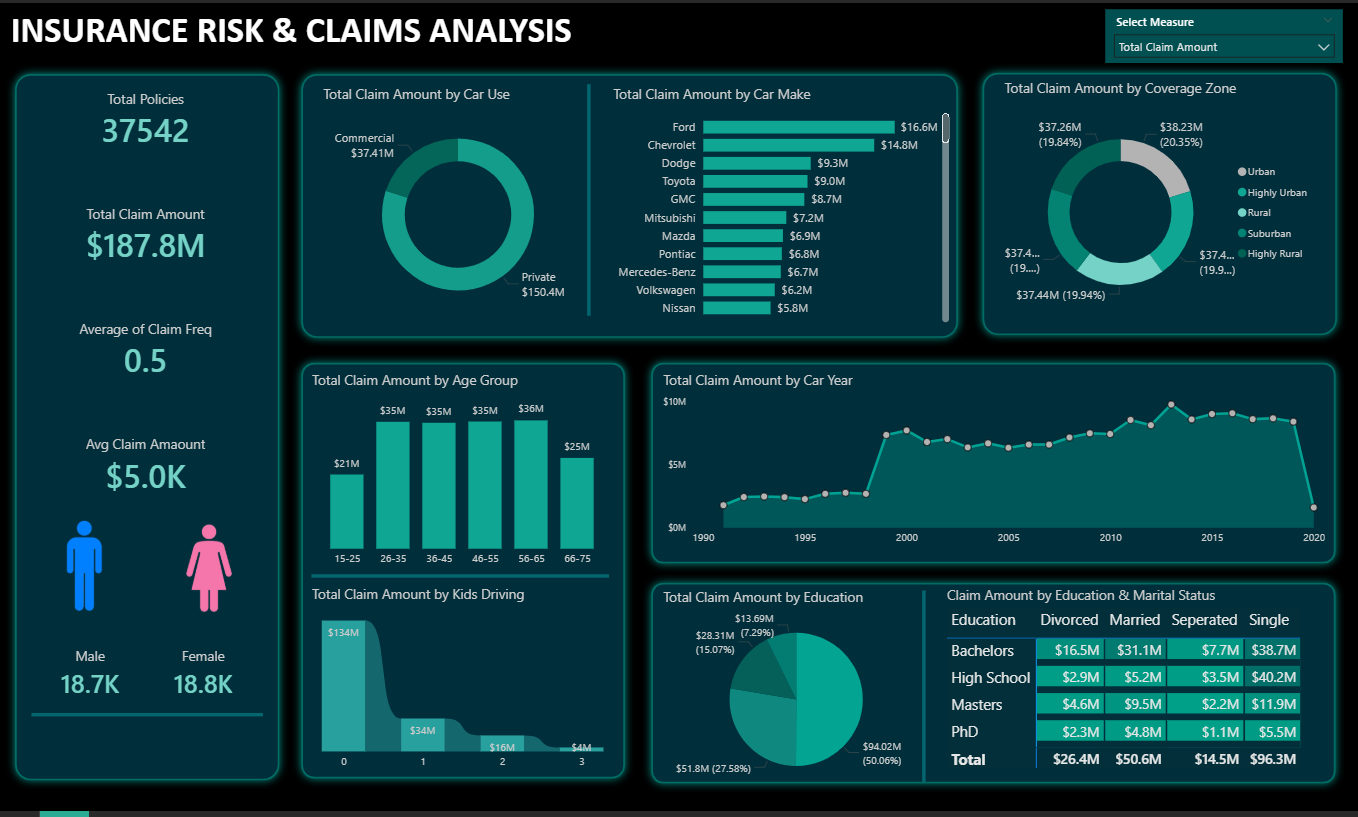

This screenshot's page, from the dashboard's own definition file:
{"tool":"powerbi","page":{"name":"Page 1","canvas":[1600,950],"ordinal":0},"visuals":[{"type":"textbox","box":[9,0,679.9,68.5],"z":0},{"type":"shape","box":[8.9,72.9,330.7,850],"z":1000},{"type":"cardVisual","fields":{"Data":["insurance_data_car.Total Policies","insurance_data_car.Total Claim Amount","Avg(insurance_data_car.Claim Freq)","insurance_data_car.Avg Claim Amaount"]},"box":[37.2,74.5,272,531],"z":2000},{"type":"cardVisual","fields":{"Data":["insurance_data_car.Male Count","insurance_data_car.Female Count"]},"box":[45.1,732.2,257.9,108.2],"z":3000},{"type":"image","box":[43.3,604.2,115.4,115.4],"z":4000},{"type":"image","box":[187.6,607.8,117.2,111.8],"z":5000},{"type":"slicer","fields":{"Values":["Select Measure.Select Measure"]},"box":[1300.3,7.2,279.5,63.1],"z":6000},{"type":"shape","box":[344.5,73.9,791.7,330],"z":7000},{"type":"donutChart","fields":{"Y":["insurance_data_car.Total Claim Amount"],"Category":["insurance_data_car.Car Use"]},"box":[375.6,95.5,327,284.9],"z":8000},{"type":"clusteredBarChart","fields":{"Y":["insurance_data_car.Total Claim Amount"],"Category":["insurance_data_car.Car Make"]},"box":[717.2,95.5,404.7,284.9],"z":9000},{"type":"shape","box":[1145.2,72.1,436.4,328.2],"z":10000},{"type":"donutChart","fields":{"Y":["insurance_data_car.Total Claim Amount"],"Category":["insurance_data_car.Coverage Zone"]},"box":[1175.9,88.4,375.1,294],"z":11000},{"type":"shape","box":[344.5,413,400.4,508.6],"z":12000},{"type":"clusteredColumnChart","fields":{"Y":["insurance_data_car.Total Claim Amount"],"Category":["insurance_data_car.Age Group"]},"box":[362.6,432.3,364.3,239.6],"z":13000},{"type":"ribbonChart","fields":{"Y":["insurance_data_car.Total Claim Amount"],"Category":["insurance_data_car.Kids Driving"]},"box":[362.6,683.2,364.3,226.7],"z":14000},{"type":"shape","box":[756.1,412.8,824.1,255.8],"z":15000},{"type":"areaChart","fields":{"Y":["insurance_data_car.Total Claim Amount"],"Category":["insurance_data_car.Car Year"]},"box":[775.1,432,787.6,215.1],"z":16000},{"type":"shape","box":[756.1,671.9,824.1,255.8],"z":17000},{"type":"pieChart","fields":{"Y":["insurance_data_car.Total Claim Amount"],"Category":["insurance_data_car.Education"]},"box":[775.5,685.3,322.8,243.5],"z":18000},{"type":"pivotTable","title":"Claim Amount by Education & Marital Status","fields":{"Rows":["insurance_data_car.Education"],"Columns":["insurance_data_car.Marital Status"],"Values":["insurance_data_car.Total Claim Amount"]},"box":[1109,684.8,453.3,225],"z":19000},{"type":"shape","box":[674.5,95.6,37.9,272.3],"z":20000},{"type":"shape","box":[1067.6,690.7,37.9,225.4],"z":21000},{"type":"shape","box":[367.9,651,349.9,45.1],"z":22000},{"type":"shape","box":[37.9,813.4,272.3,45.1],"z":23000}]}

Visuals, with their boxes in screenshot pixels (x1, y1, x2, y2), scaled from the page's 1600x950 canvas onto the 1358x817 screenshot:
textbox: 8:0:585:59
shape: 8:63:288:794
cardVisual - insurance_data_car.Total Policies x insurance_data_car.Total Claim Amount: 32:64:262:521
cardVisual - insurance_data_car.Male Count x insurance_data_car.Female Count: 38:630:257:723
image: 37:520:135:619
image: 159:523:259:619
slicer - Select Measure.Select Measure: 1104:6:1341:60
shape: 292:64:964:347
donutChart - insurance_data_car.Total Claim Amount x insurance_data_car.Car Use: 319:82:596:327
clusteredBarChart - insurance_data_car.Total Claim Amount x insurance_data_car.Car Make: 609:82:952:327
shape: 972:62:1342:344
donutChart - insurance_data_car.Total Claim Amount x insurance_data_car.Coverage Zone: 998:76:1316:329
shape: 292:355:632:793
clusteredColumnChart - insurance_data_car.Total Claim Amount x insurance_data_car.Age Group: 308:372:617:578
ribbonChart - insurance_data_car.Total Claim Amount x insurance_data_car.Kids Driving: 308:588:617:783
shape: 642:355:1341:575
areaChart - insurance_data_car.Total Claim Amount x insurance_data_car.Car Year: 658:372:1326:557
shape: 642:578:1341:798
pieChart - insurance_data_car.Total Claim Amount x insurance_data_car.Education: 658:589:932:799
"Claim Amount by Education & Marital Status" pivotTable: 941:589:1326:782
shape: 572:82:605:316
shape: 906:594:938:788
shape: 312:560:609:599
shape: 32:700:263:738
